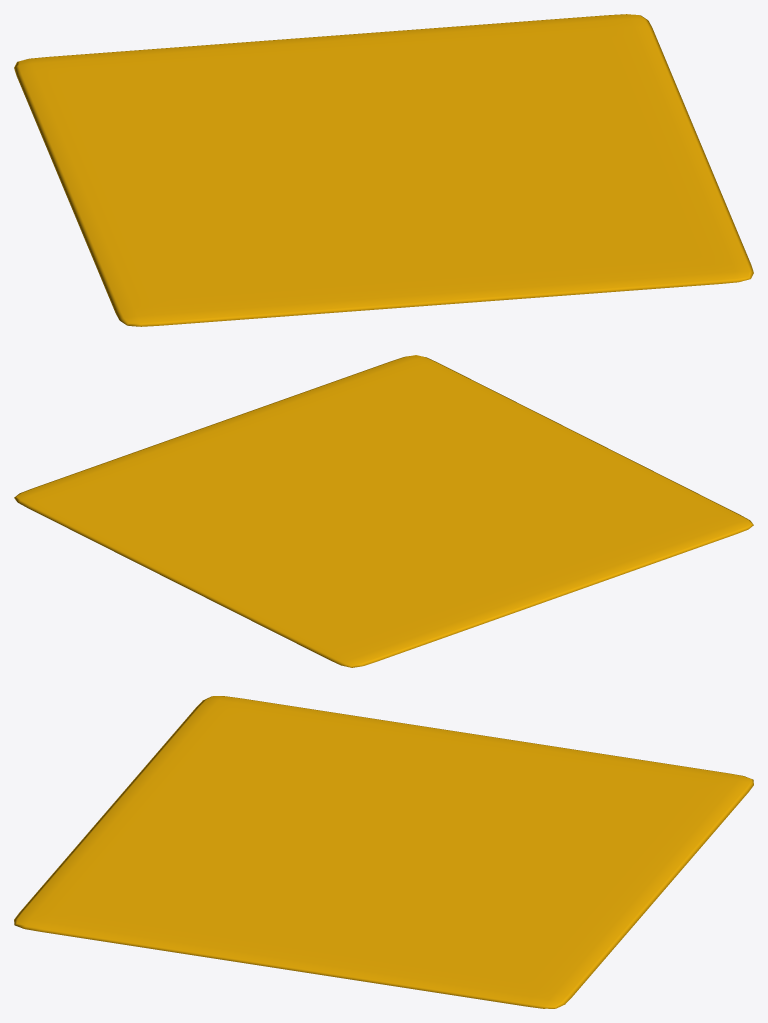
The model's file is cheese.fbx.
3 views of the same model, one above another, from view 1: azimuth 30°, elevation 25°; view 2: azimuth 150°, elevation 25°; view 3: azimuth 270°, elevation 25° (orthographic). The views are drawn at different scales.
Visible parts, largest first — view 1: cheese; view 2: cheese; view 3: cheese.
Part boxes in pixels (bbox=[...]): cheese: bbox=[14, 14, 753, 326]; cheese: bbox=[14, 355, 753, 667]; cheese: bbox=[14, 696, 753, 1008].
Size of the model in its own units: 129 by 1.03 by 129.
